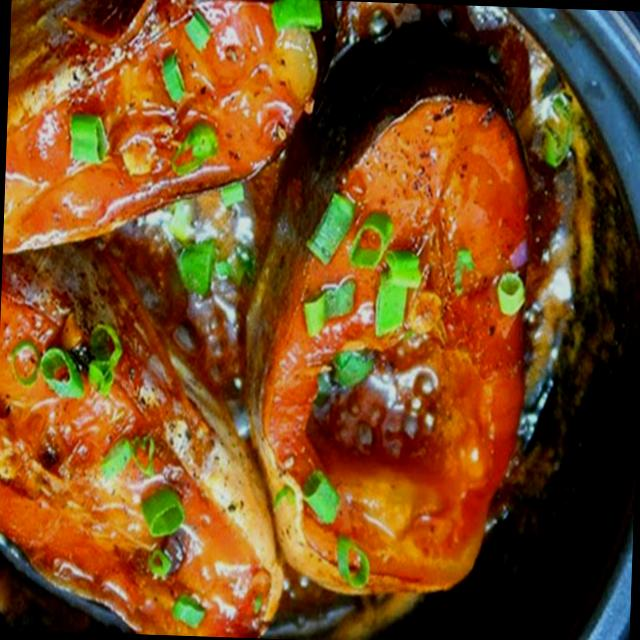ca kho: (3, 0, 529, 593), (0, 289, 284, 628)
